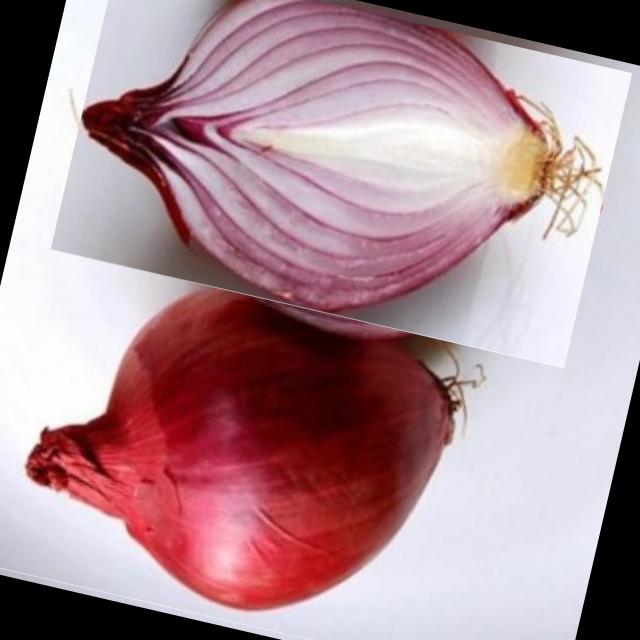Onion: (49, 0, 631, 368), (0, 258, 505, 640)
